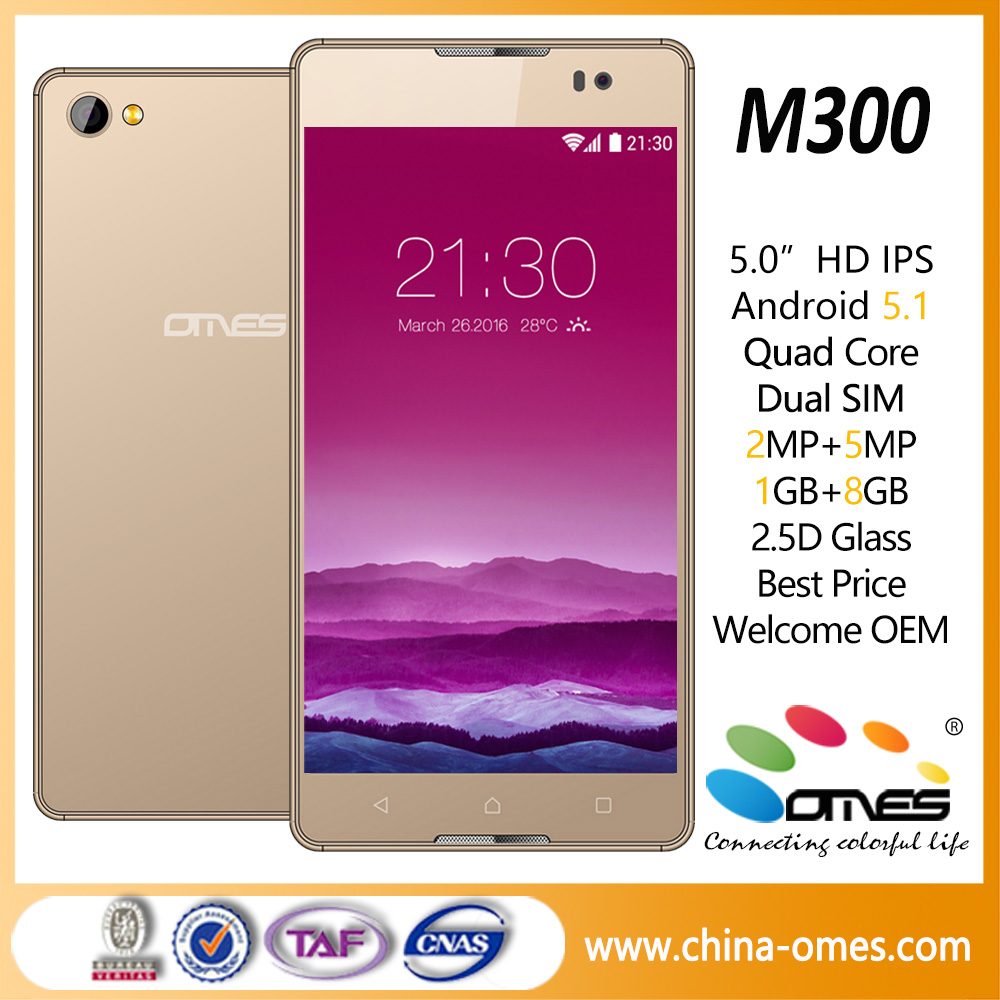mobile: (289, 21, 702, 864)
